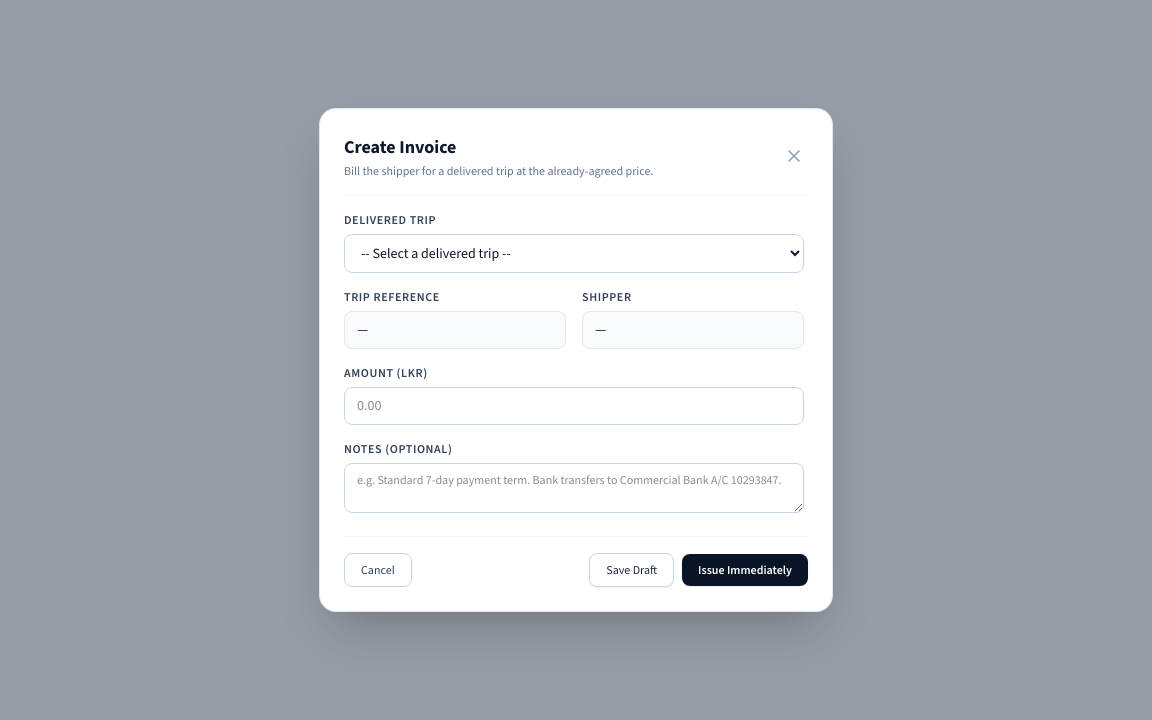
Test case: InvoiceFormModal — create mode (trip-linked, single amount) › pre-fills the amount from the selected trip’s agreed price and shows the shipper name
Select "LD-CMB-KDY-01" in the dropdown labelled "Delivered Trip": coordinates (574, 254) [344,234,804,273]
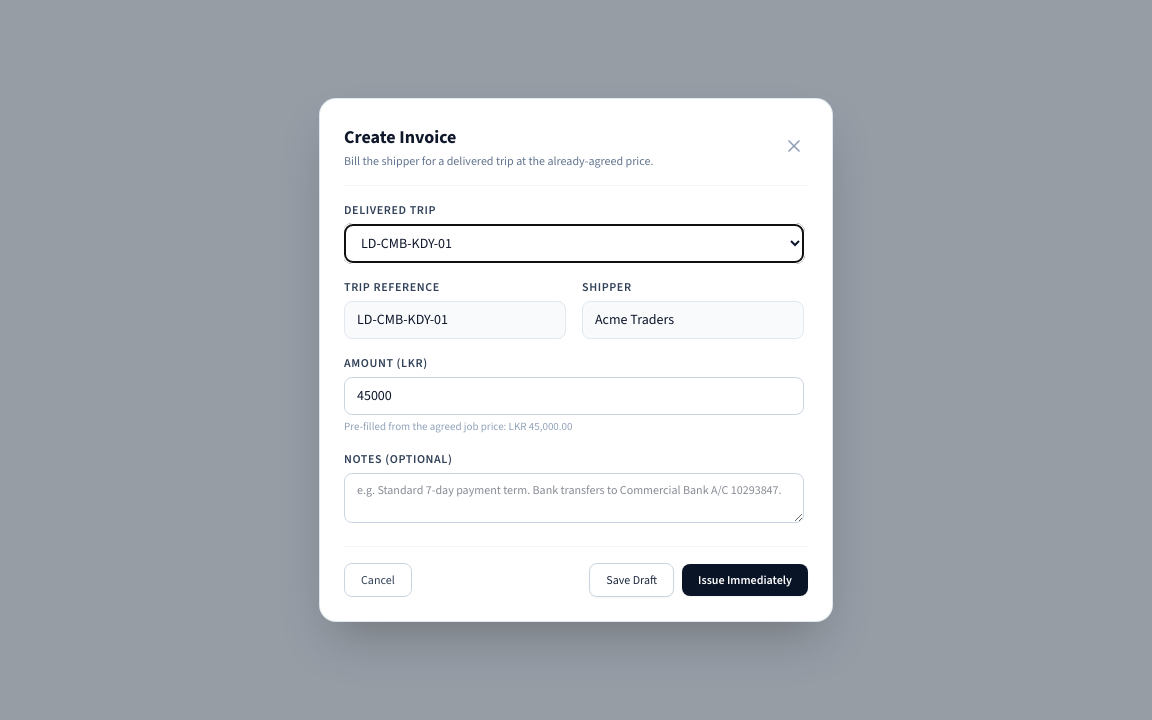
Expected: the number field showing "45000" is shown, [344,377,804,415]
Expected: the text "Acme Traders" is shown, [582,301,804,339]
